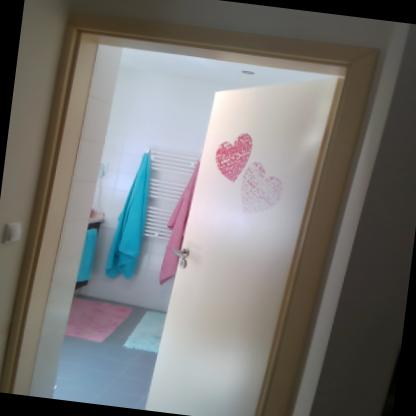semi: (51, 3, 385, 415)
